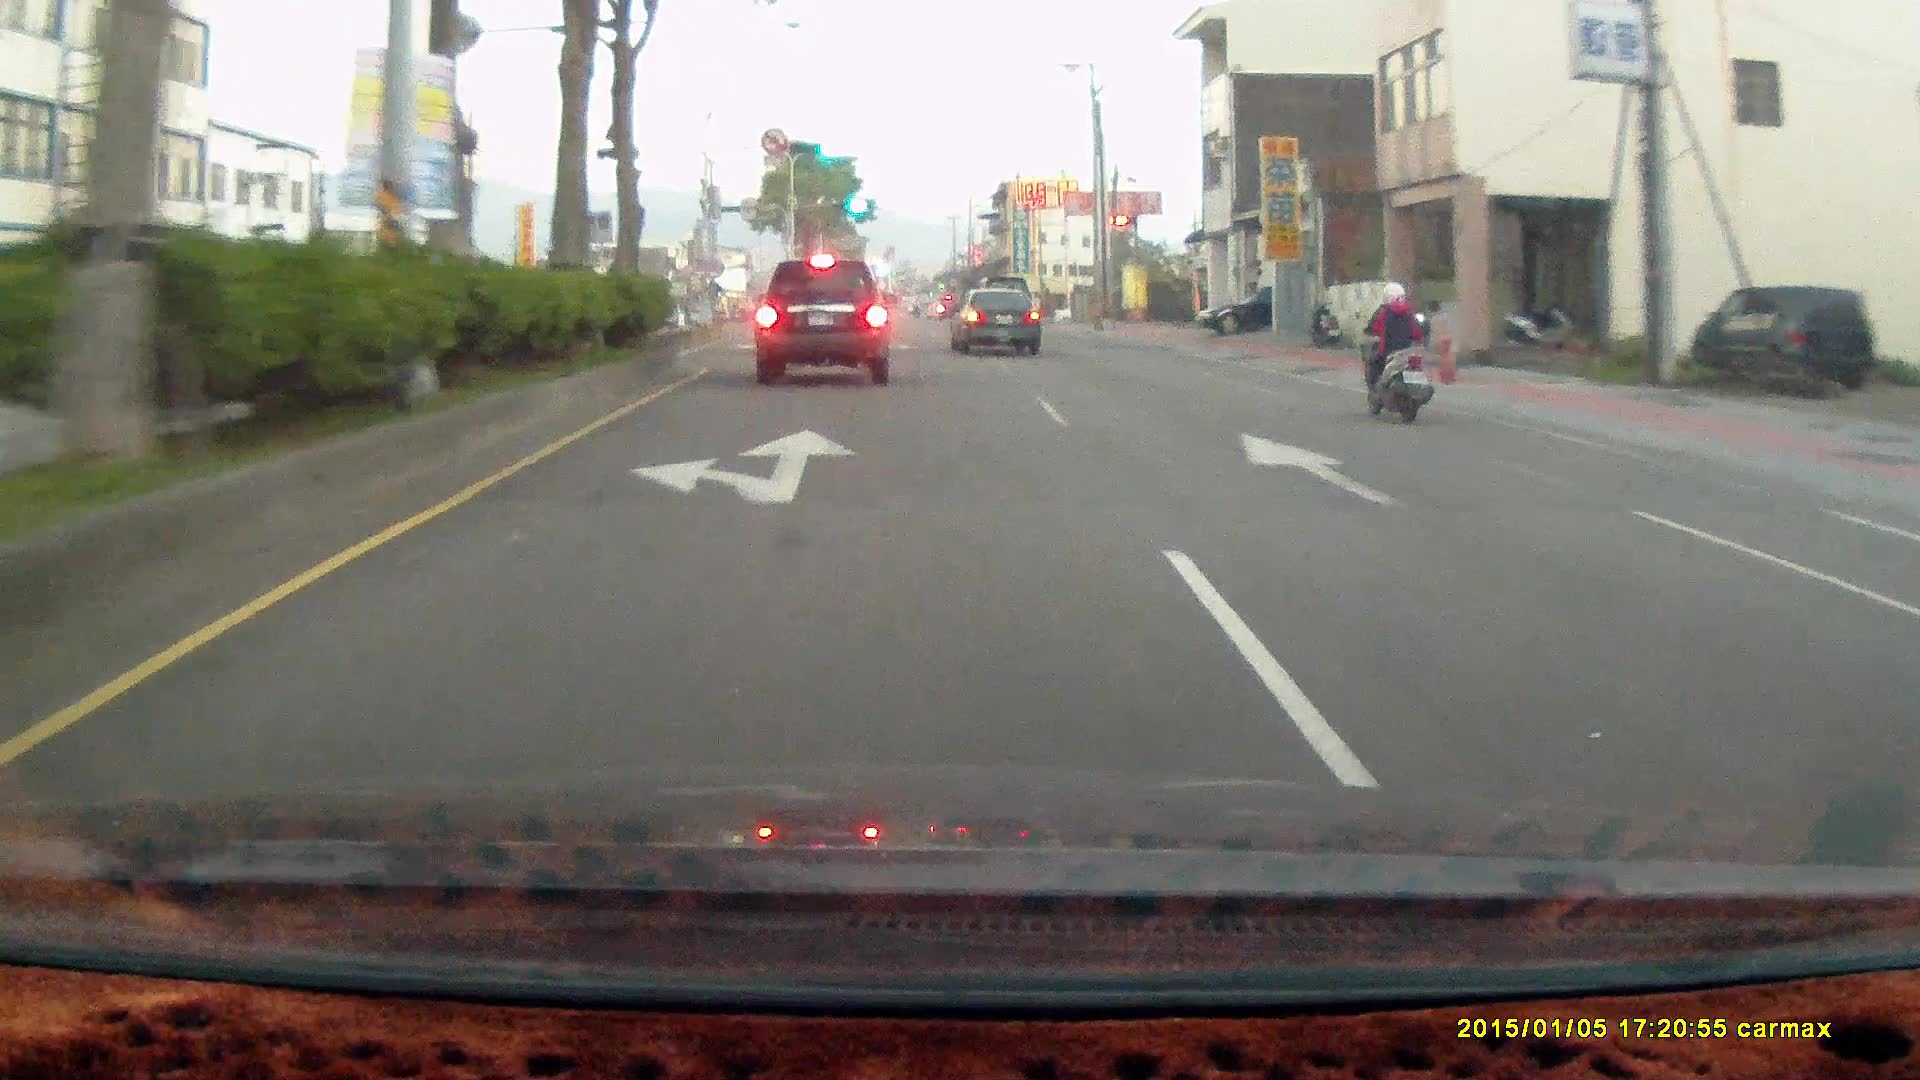rider: (1345, 267, 1447, 431), (1357, 285, 1433, 432)
vehicle: (1691, 283, 1877, 391), (1691, 285, 1877, 391), (754, 260, 895, 389), (754, 259, 896, 384), (1197, 285, 1330, 337), (950, 288, 1046, 358), (948, 288, 1040, 354), (1197, 285, 1276, 338)
